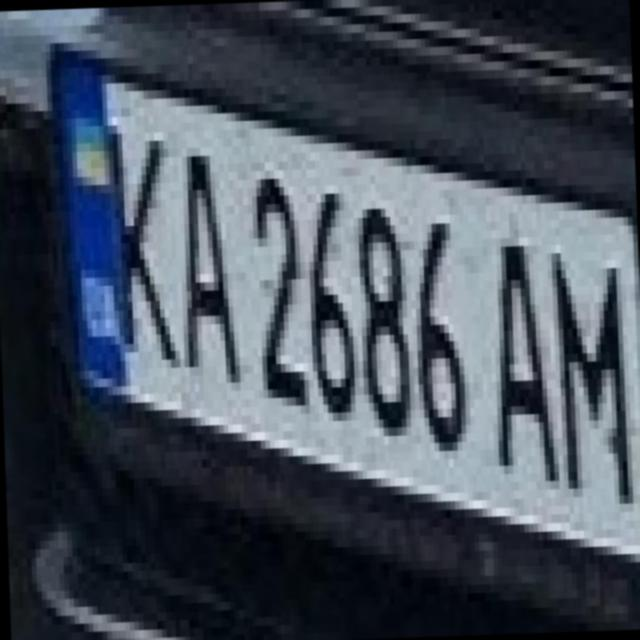2: (237, 152, 310, 407)
6: (398, 188, 471, 444), (287, 167, 356, 422)
8: (338, 174, 411, 428)
A: (467, 211, 554, 484), (162, 121, 240, 384)
K: (92, 98, 174, 361)
M: (531, 225, 633, 506)
